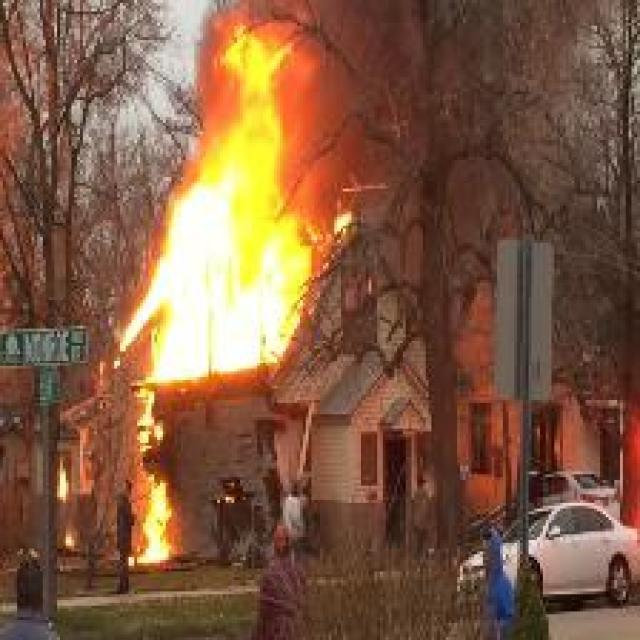Fire: (120, 29, 314, 377), (130, 478, 174, 562)
